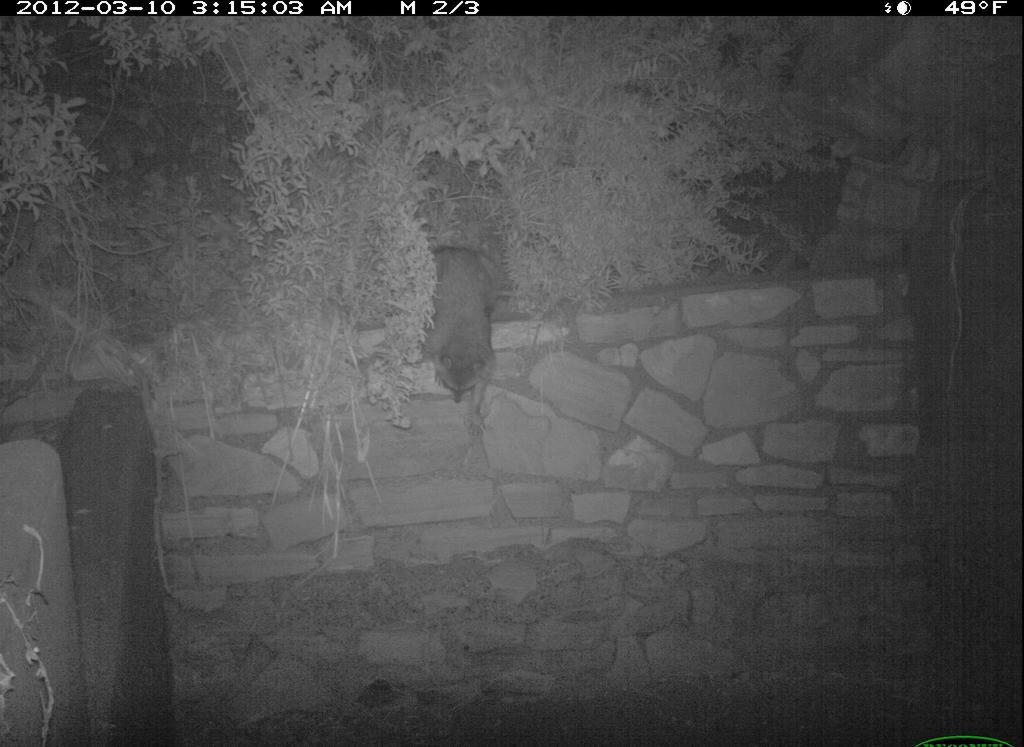raccoon: (405, 221, 515, 457)
